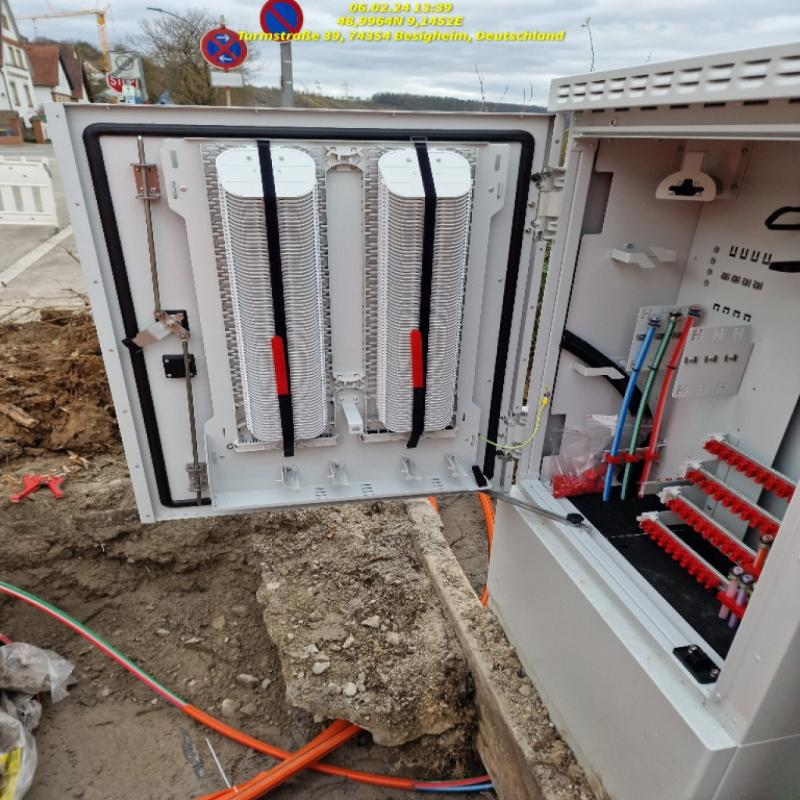NT-Gehause: (45, 45, 800, 800)
Spleiskassetten: (201, 143, 334, 450), (360, 143, 481, 440)
